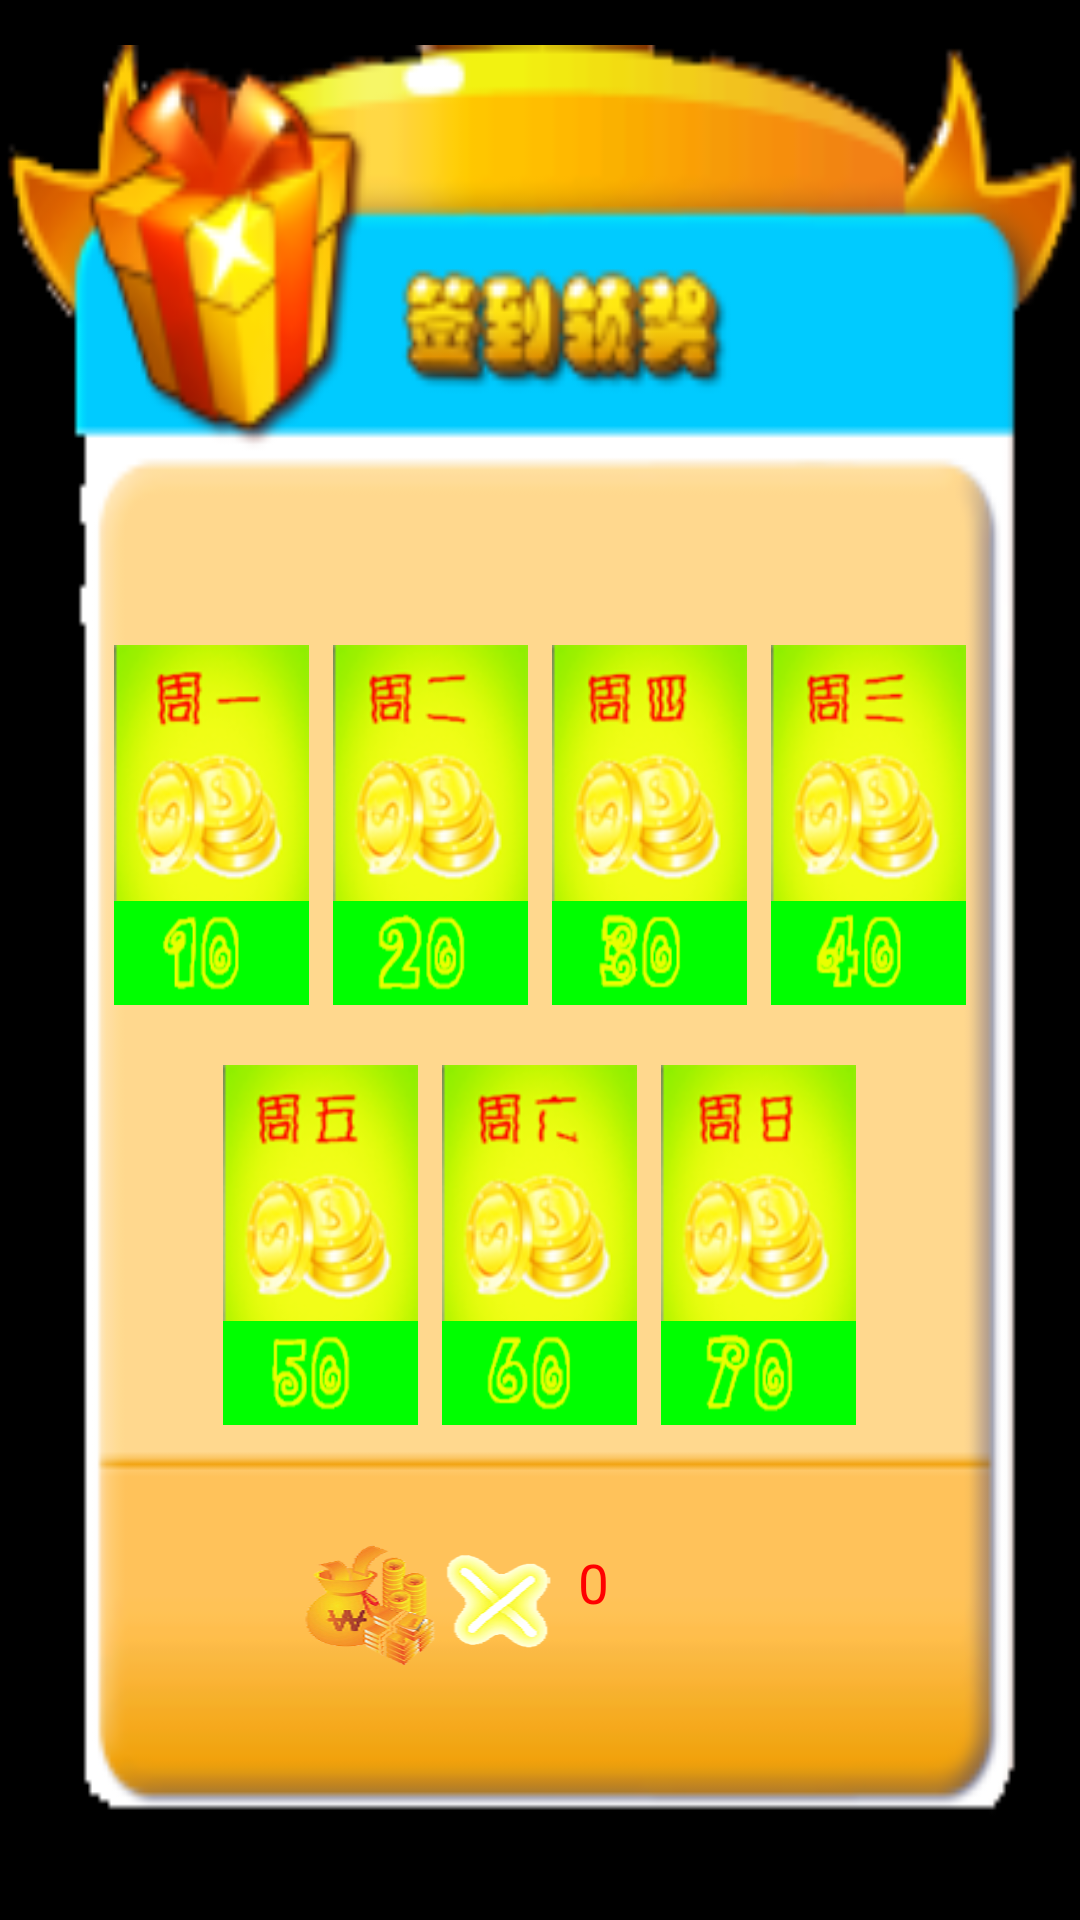

Locate icon controls on the screen. Image size 1080 x 1920, boxes as (x1,y1,x2,y2).
goldcount: (300,1546,563,1665)
